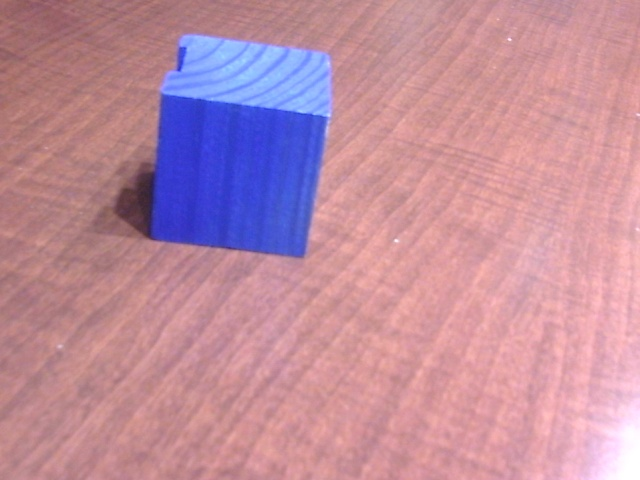BlueBlock: (148, 33, 332, 260)
